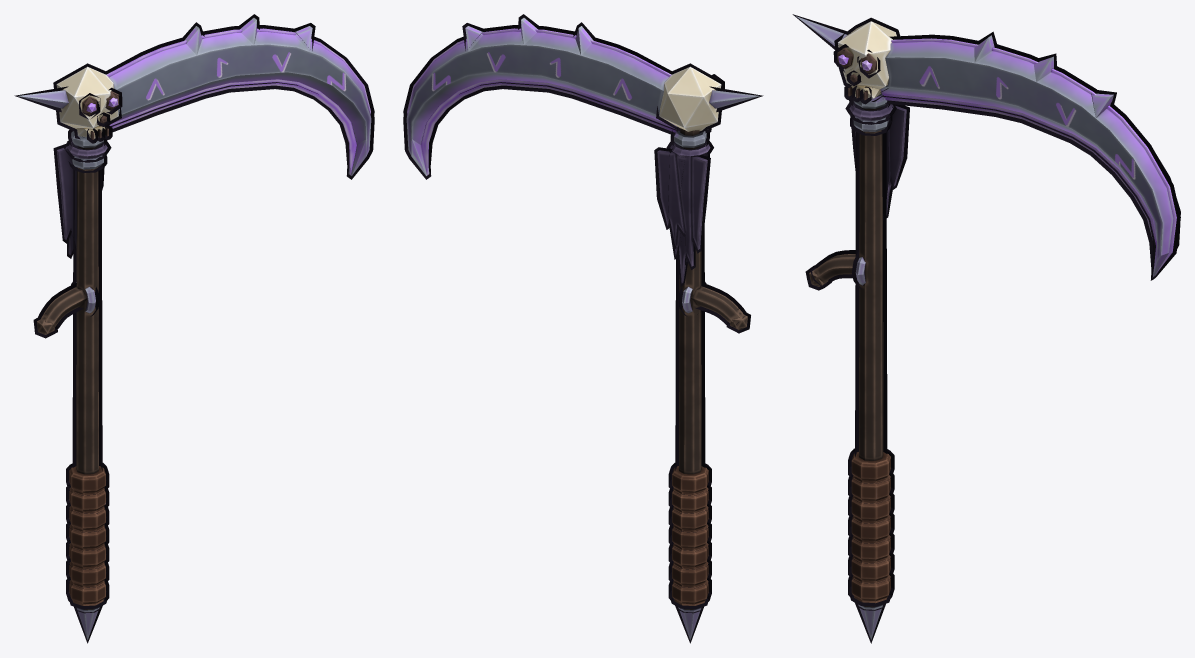
The model's file is ReaperScythe.fbx.
The picture shows the model from 3 angles, left to right: view 1: azimuth 30°, elevation 25°; view 2: azimuth 150°, elevation 25°; view 3: azimuth 330°, elevation 25°; orthographic projection. The views are drawn at different scales.
Visible parts, largest first — view 1: ReaperScythe, ReaperScytheOutline, ReaperScytheReaperGlow; view 2: ReaperScythe, ReaperScytheOutline, ReaperScytheReaperGlow; view 3: ReaperScythe, ReaperScytheOutline, ReaperScytheReaperGlow.
Part boxes in pixels (box(x1,y1,x2,y2)): ReaperScythe: box(18, 18, 371, 639); ReaperScytheOutline: box(14, 14, 374, 643); ReaperScytheReaperGlow: box(86, 28, 370, 175); ReaperScythe: box(406, 18, 759, 639); ReaperScytheOutline: box(403, 14, 763, 643); ReaperScytheReaperGlow: box(407, 28, 676, 175); ReaperScythe: box(796, 16, 1173, 639); ReaperScytheOutline: box(792, 14, 1180, 643); ReaperScytheReaperGlow: box(838, 38, 1176, 276).
Size of the model in its own units: 246 by 389 by 41.02.
Materials: 2 (1 with a texture image).
